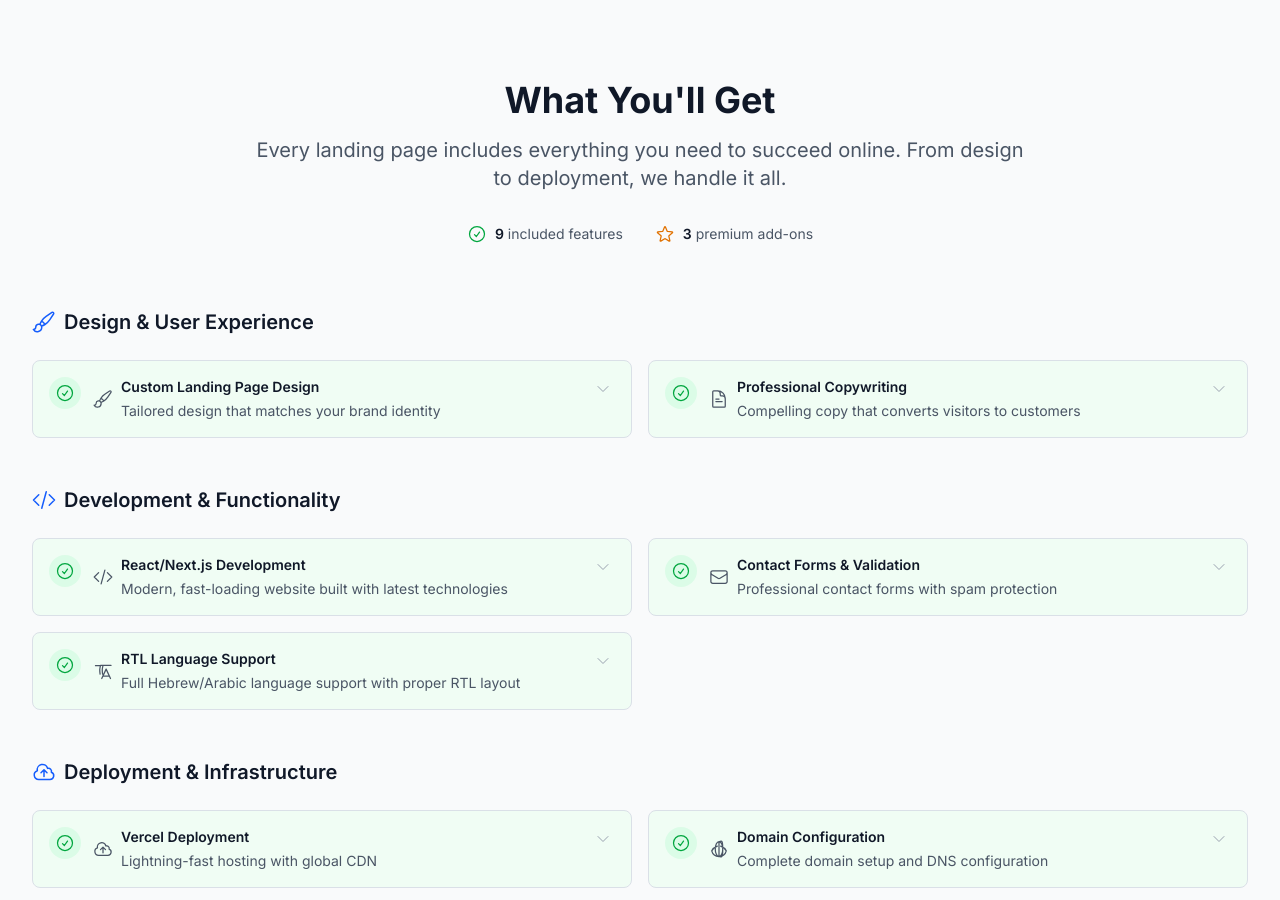
it: Deliverables Component › displays detailed information when items are expanded
Find all expand buttons and click the second one (React development)
Click the button named "expand details" in the row of "React/Next.js Development" at (603, 567), box [591, 555, 615, 579]
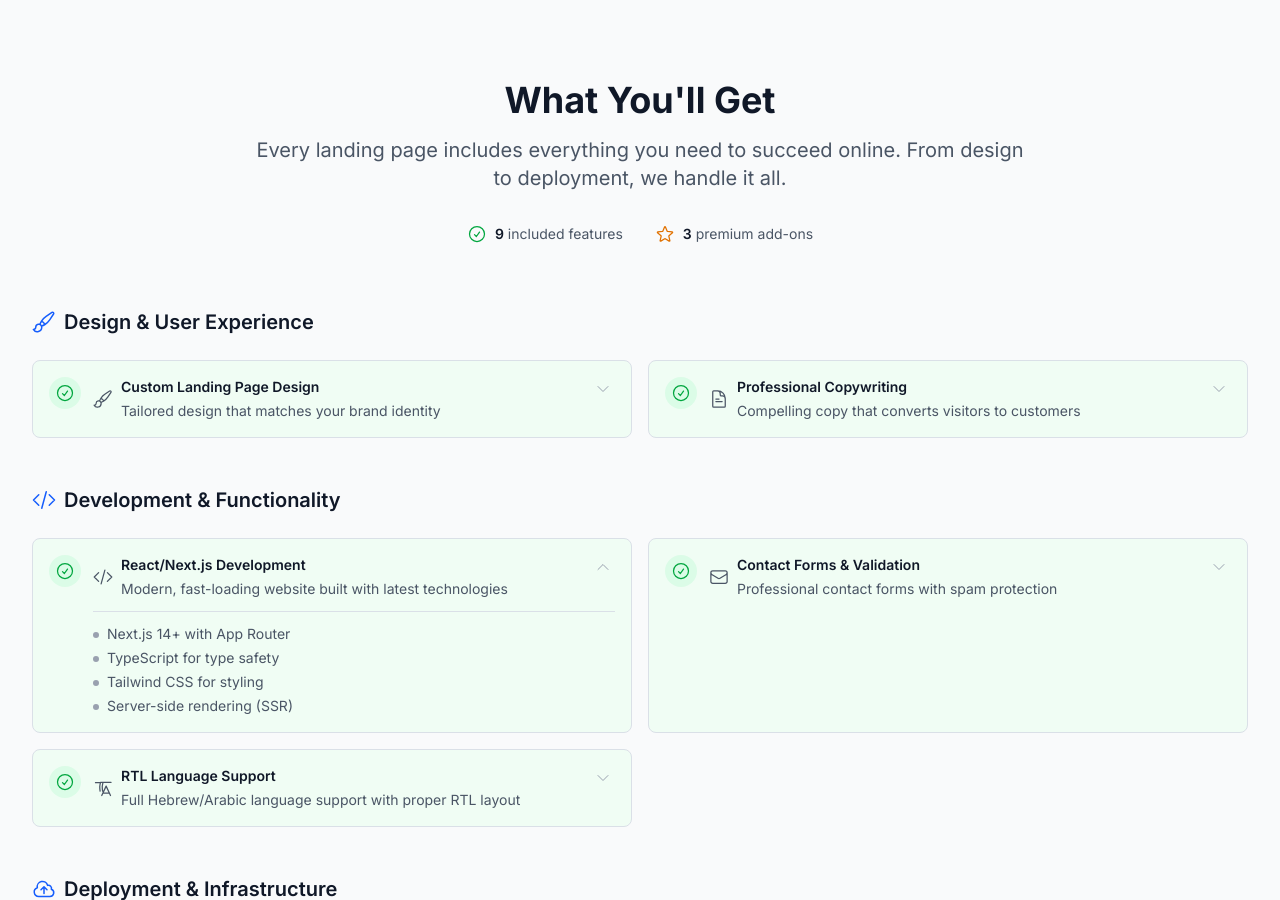
Check: the list item "Next.js 14+ with App Router" is shown, box [93, 625, 290, 642]
Check: the list item "TypeScript for type safety" is shown, box [93, 649, 279, 666]
Check: the list item "Tailwind CSS for styling" is shown, box [93, 673, 264, 690]
